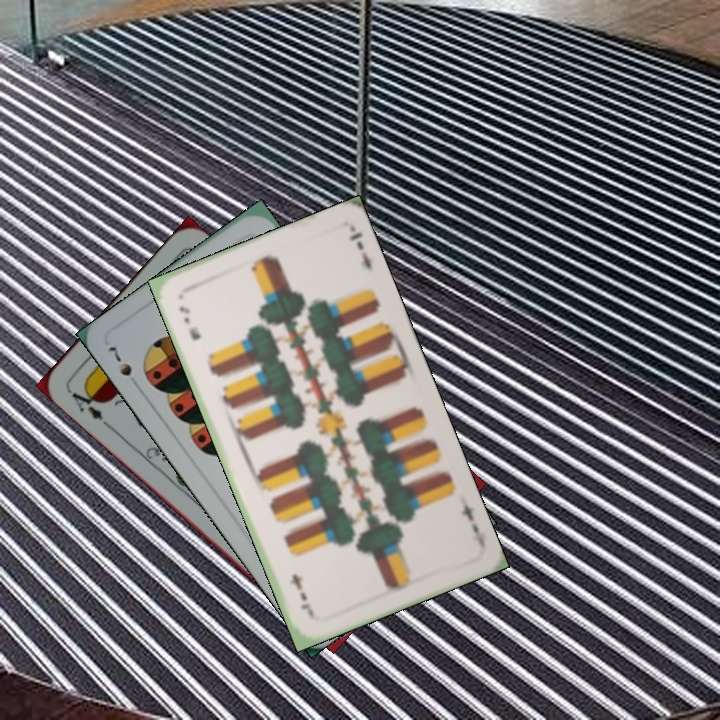E7: (175, 302, 204, 343), (457, 499, 482, 537)
EA: (64, 383, 113, 430)
S7: (104, 342, 135, 379)
